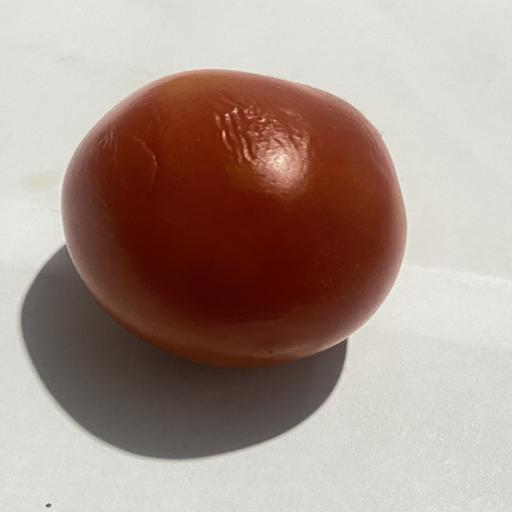overipe: (61, 70, 406, 367)
